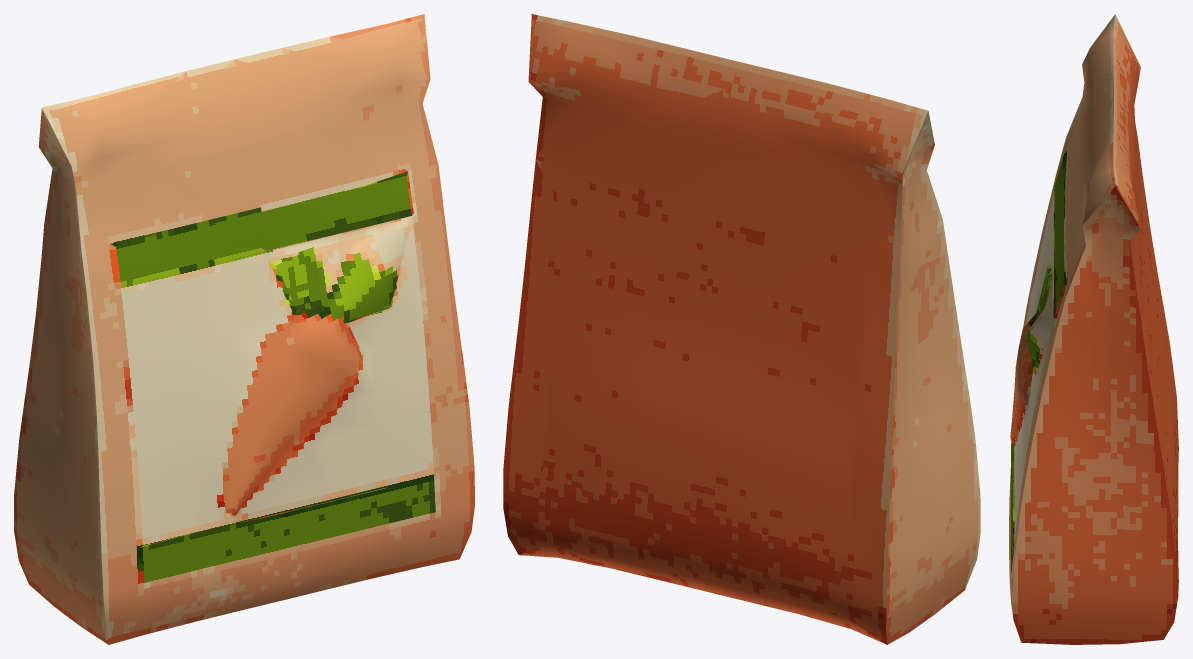
The model's file is seed_bag2.glb.
3 renders of one model, left to right at view 1: azimuth 30°, elevation 25°; view 2: azimuth 150°, elevation 25°; view 3: azimuth 270°, elevation 25°, orthographic. The views are drawn at different scales.
Parts seen in each view (by area): view 1: mesh; view 2: mesh; view 3: mesh.
Boxes of the visible parts, box(x1,y1,x2,y2) form: mesh: box(14, 14, 474, 644); mesh: box(503, 14, 980, 644); mesh: box(1009, 14, 1178, 644).
Bounding box in the file's own units: 0.0939 × 0.12 × 0.0392.
Materials: 1 (1 with a texture image).
